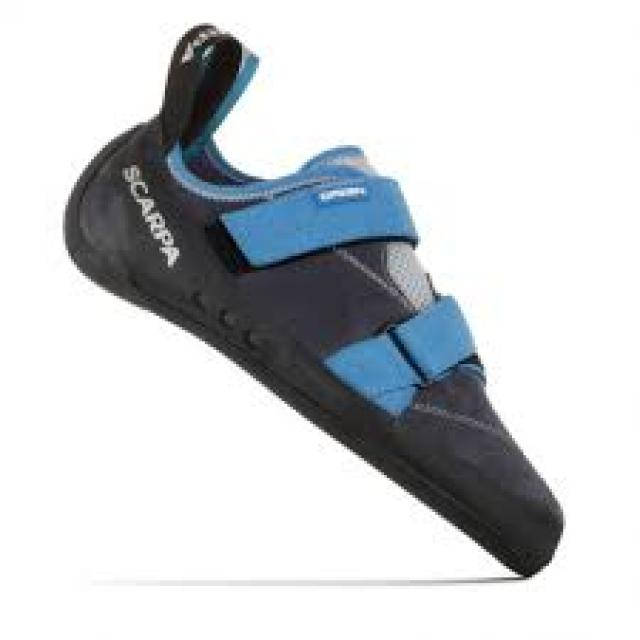climbing-shoes: (61, 23, 566, 580)
